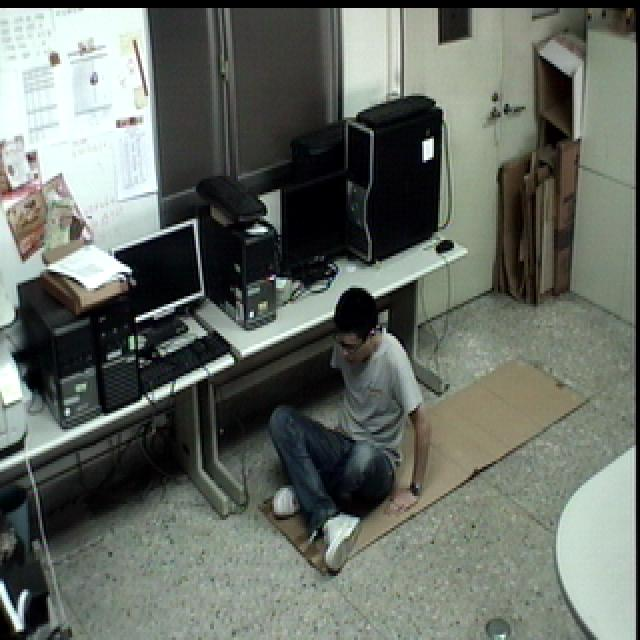sit: (262, 289, 439, 567)
